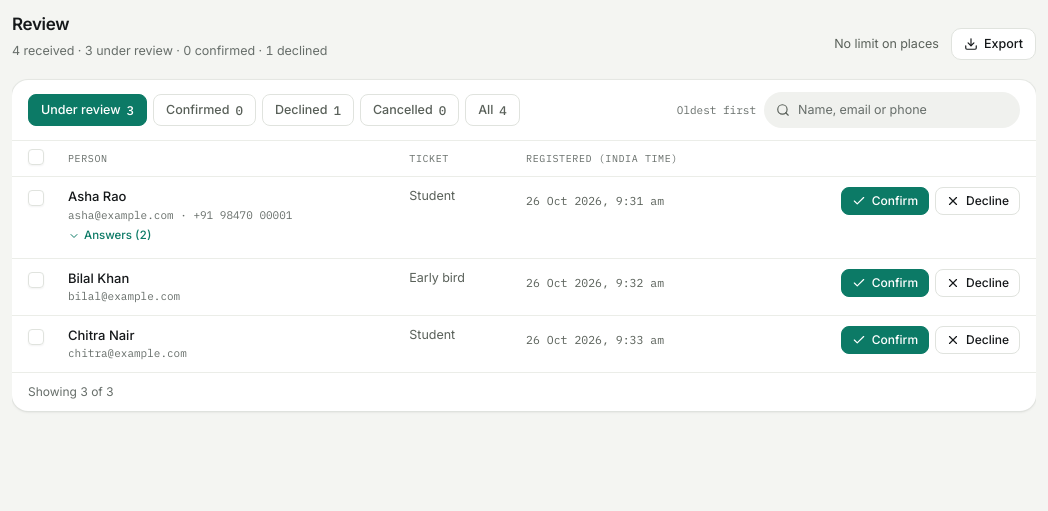
Test case: the list › shows who is under review, oldest first: contact, ticket type, the time in India, and their answers on request
Check: the text "asha@example.com · +91 98470 00001" is shown, box [68,207,328,223]
Check: the text "Early bird" is shown, box [409,270,465,285]
Click the button named "Answers (2) of Asha Rao" at (110, 236), box [68,227,152,245]
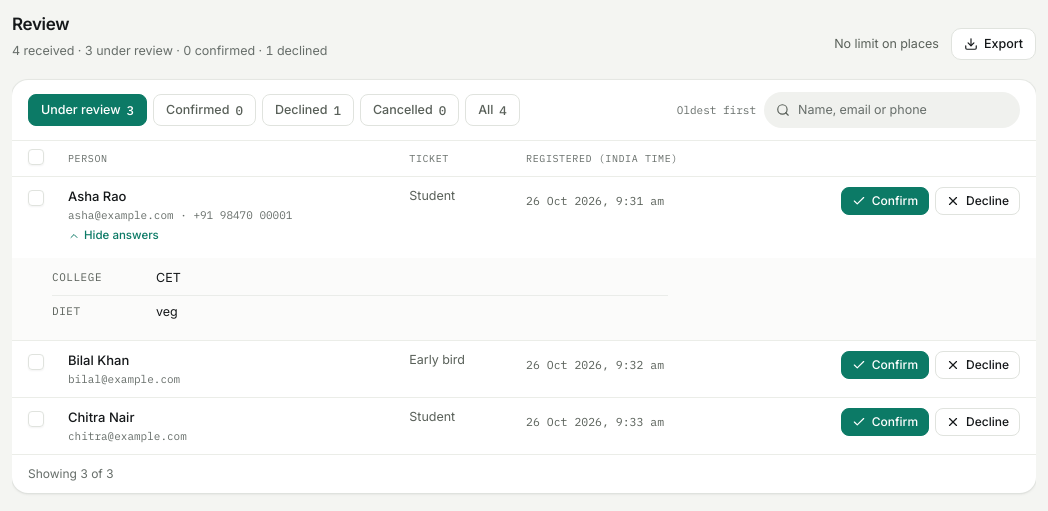
Check: the text "College" is shown, box [52,270,102,284]
Check: the text "CET" is shown, box [156,270,181,285]
Check: the text "diet" is shown, box [52,304,81,318]
